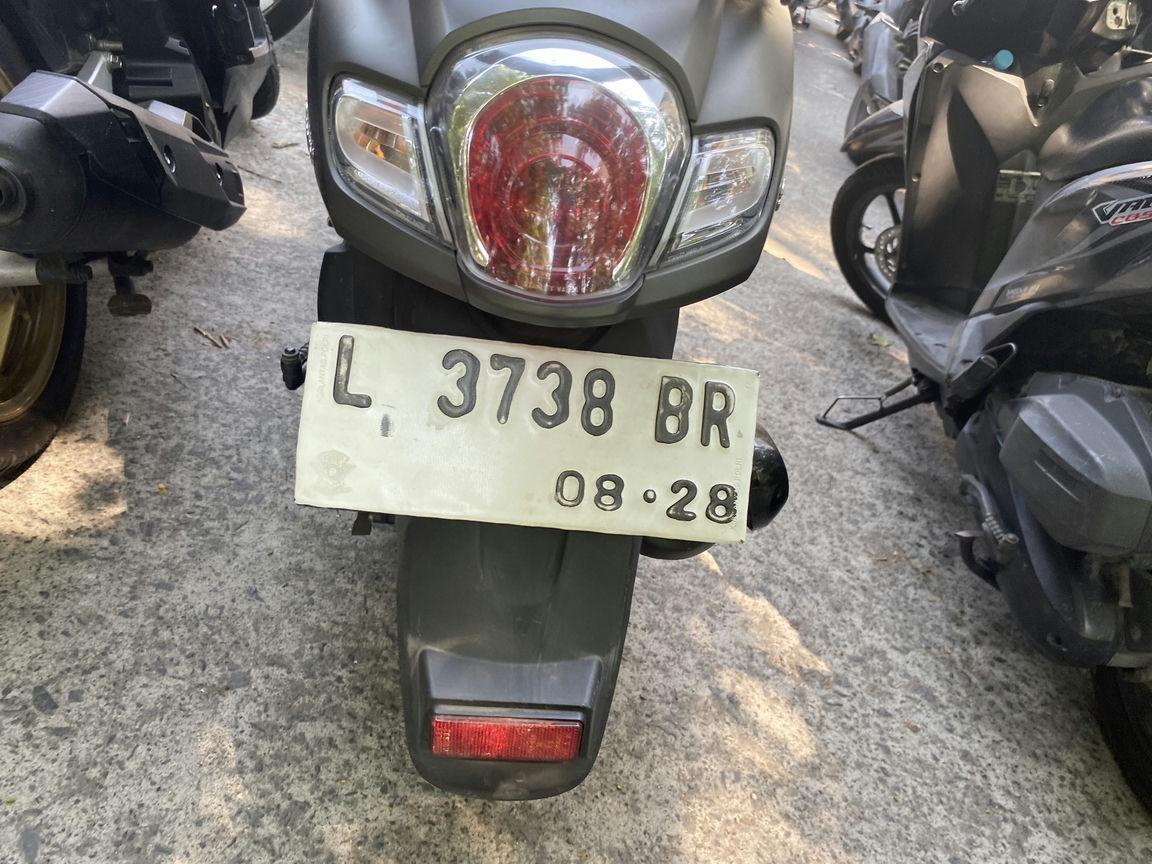plat: (295, 322, 758, 542)
